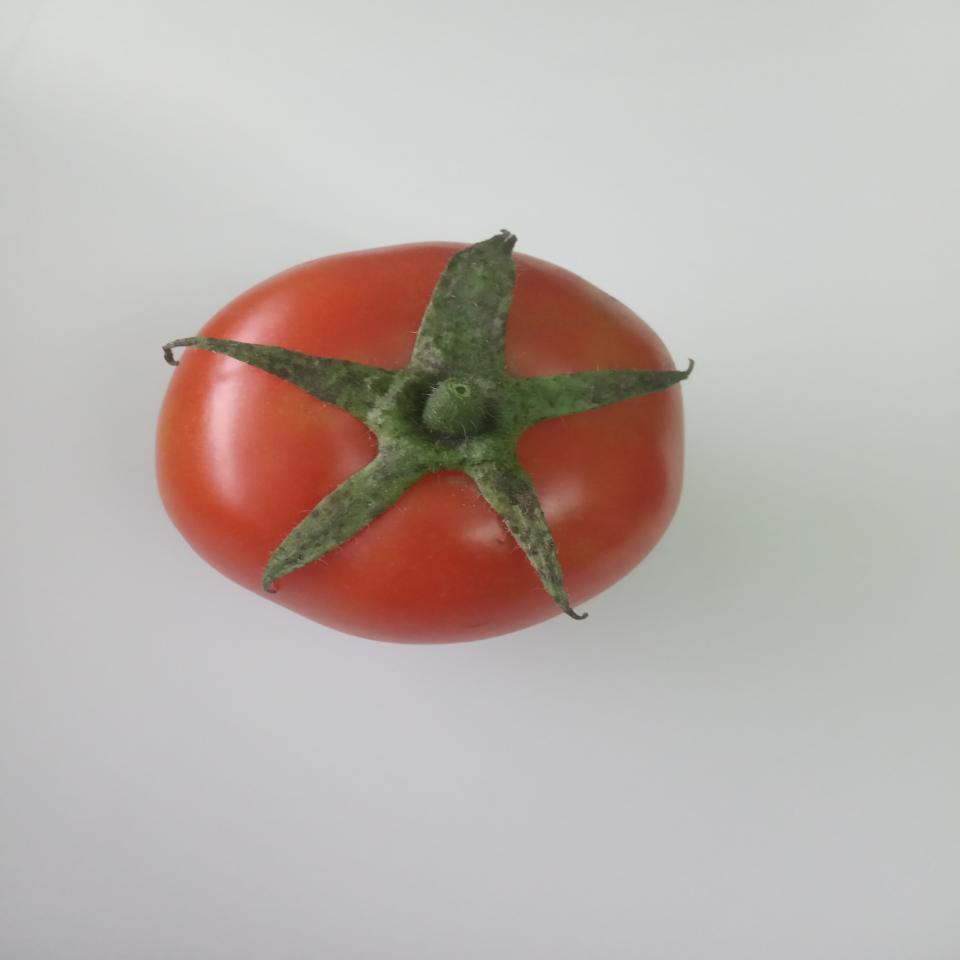Healthy: (154, 220, 700, 648)
